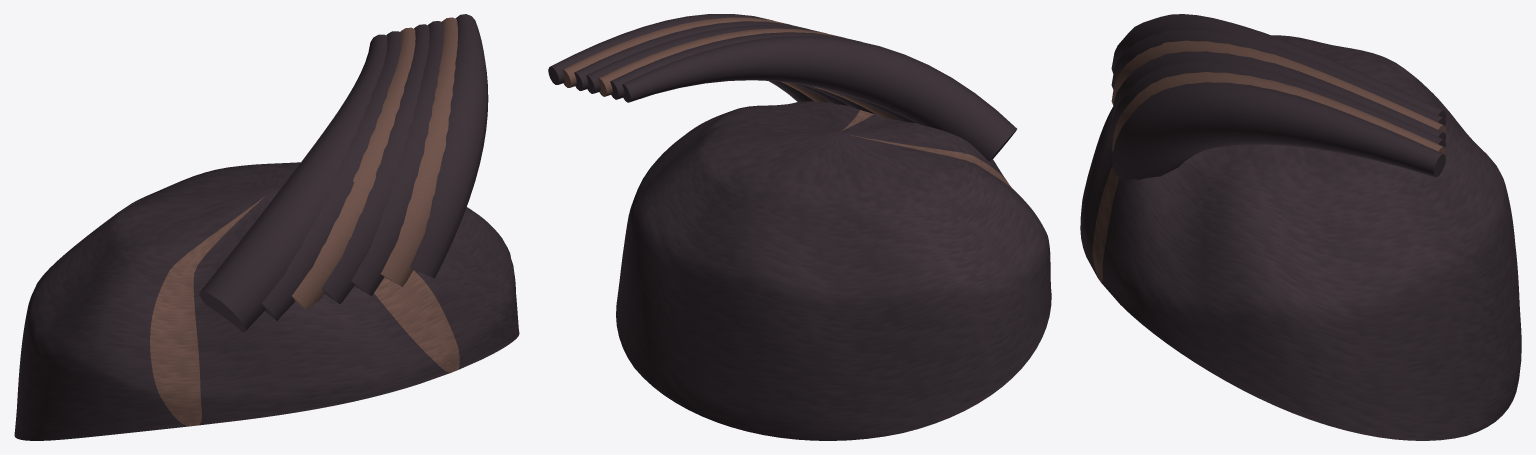
File: hair_comet_crest.gltf
3 renders of one model, left to right at view 1: azimuth 30°, elevation 25°; view 2: azimuth 150°, elevation 25°; view 3: azimuth 270°, elevation 25°, orthographic. The views are drawn at different scales.
Parts seen in each view (by area): view 1: Comet Crest; view 2: Comet Crest; view 3: Comet Crest.
Boxes of the visible parts, x1,y1,x2,y2 form: Comet Crest: (14,14,519,440); Comet Crest: (548,14,1051,440); Comet Crest: (1080,14,1521,440).
Size of the model in its own units: 0.5059 by 0.3394 by 0.3598.
Materials: 2 (2 with a texture image).
